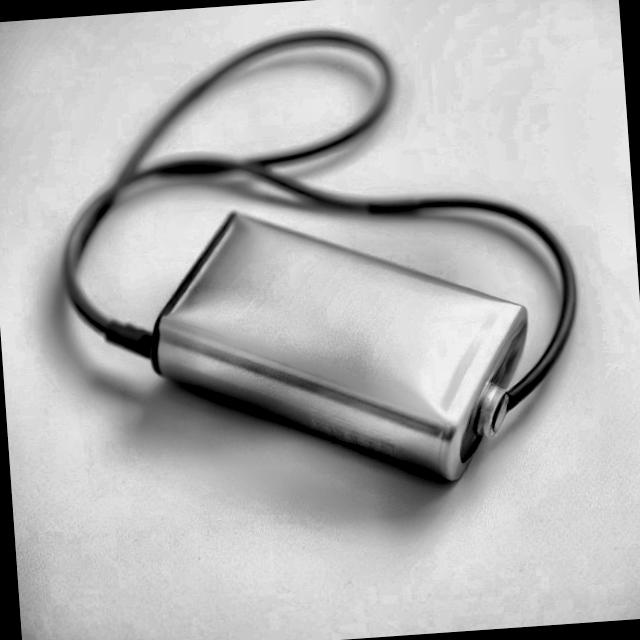Battery: (140, 193, 540, 507)
Cable: (46, 13, 586, 462)
